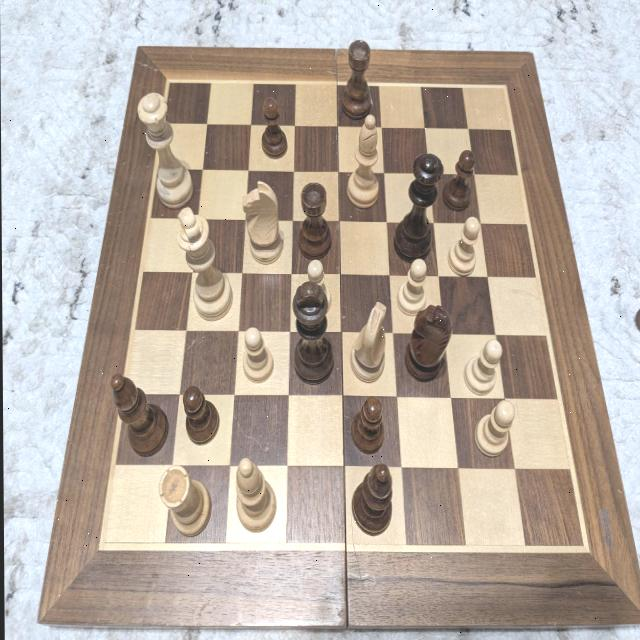black_bishop: (110, 374, 168, 456), (350, 464, 393, 534)
black_king: (293, 286, 334, 380)
black_knight: (404, 303, 452, 381)
black_pawn: (183, 385, 220, 443), (349, 397, 385, 455), (442, 150, 475, 212), (261, 98, 288, 160)
black_queen: (395, 153, 442, 260)
black_rook: (297, 181, 331, 259), (341, 39, 372, 121)
white_bishop: (233, 457, 277, 532), (346, 118, 379, 210)
white_king: (176, 208, 231, 322)
white_knight: (242, 180, 282, 262), (348, 302, 387, 382)
white_pawn: (472, 398, 515, 456), (462, 338, 502, 395), (447, 217, 480, 275), (241, 327, 274, 383), (397, 258, 427, 314), (302, 259, 330, 315)
white_queen: (137, 92, 194, 210)
white_rook: (158, 464, 211, 536)
